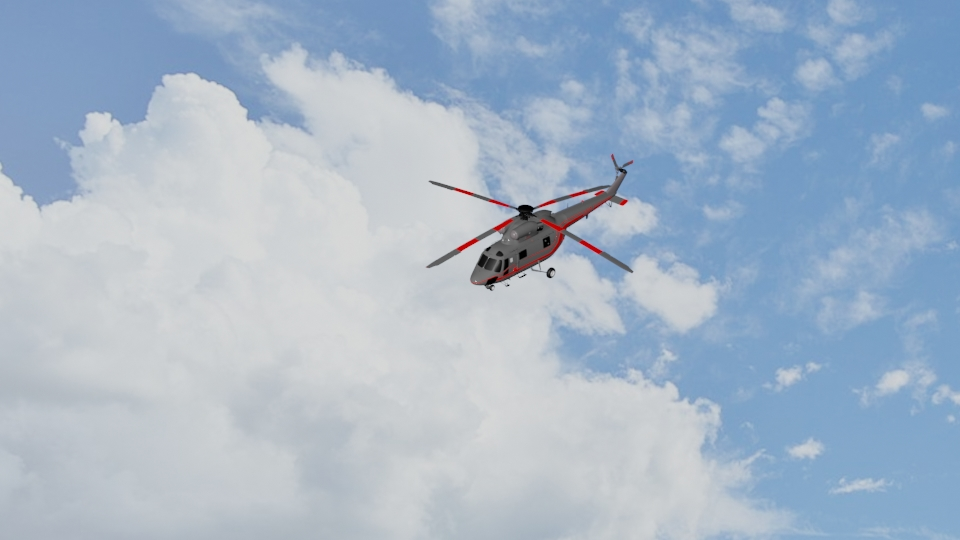heli: (423, 154, 635, 298)
